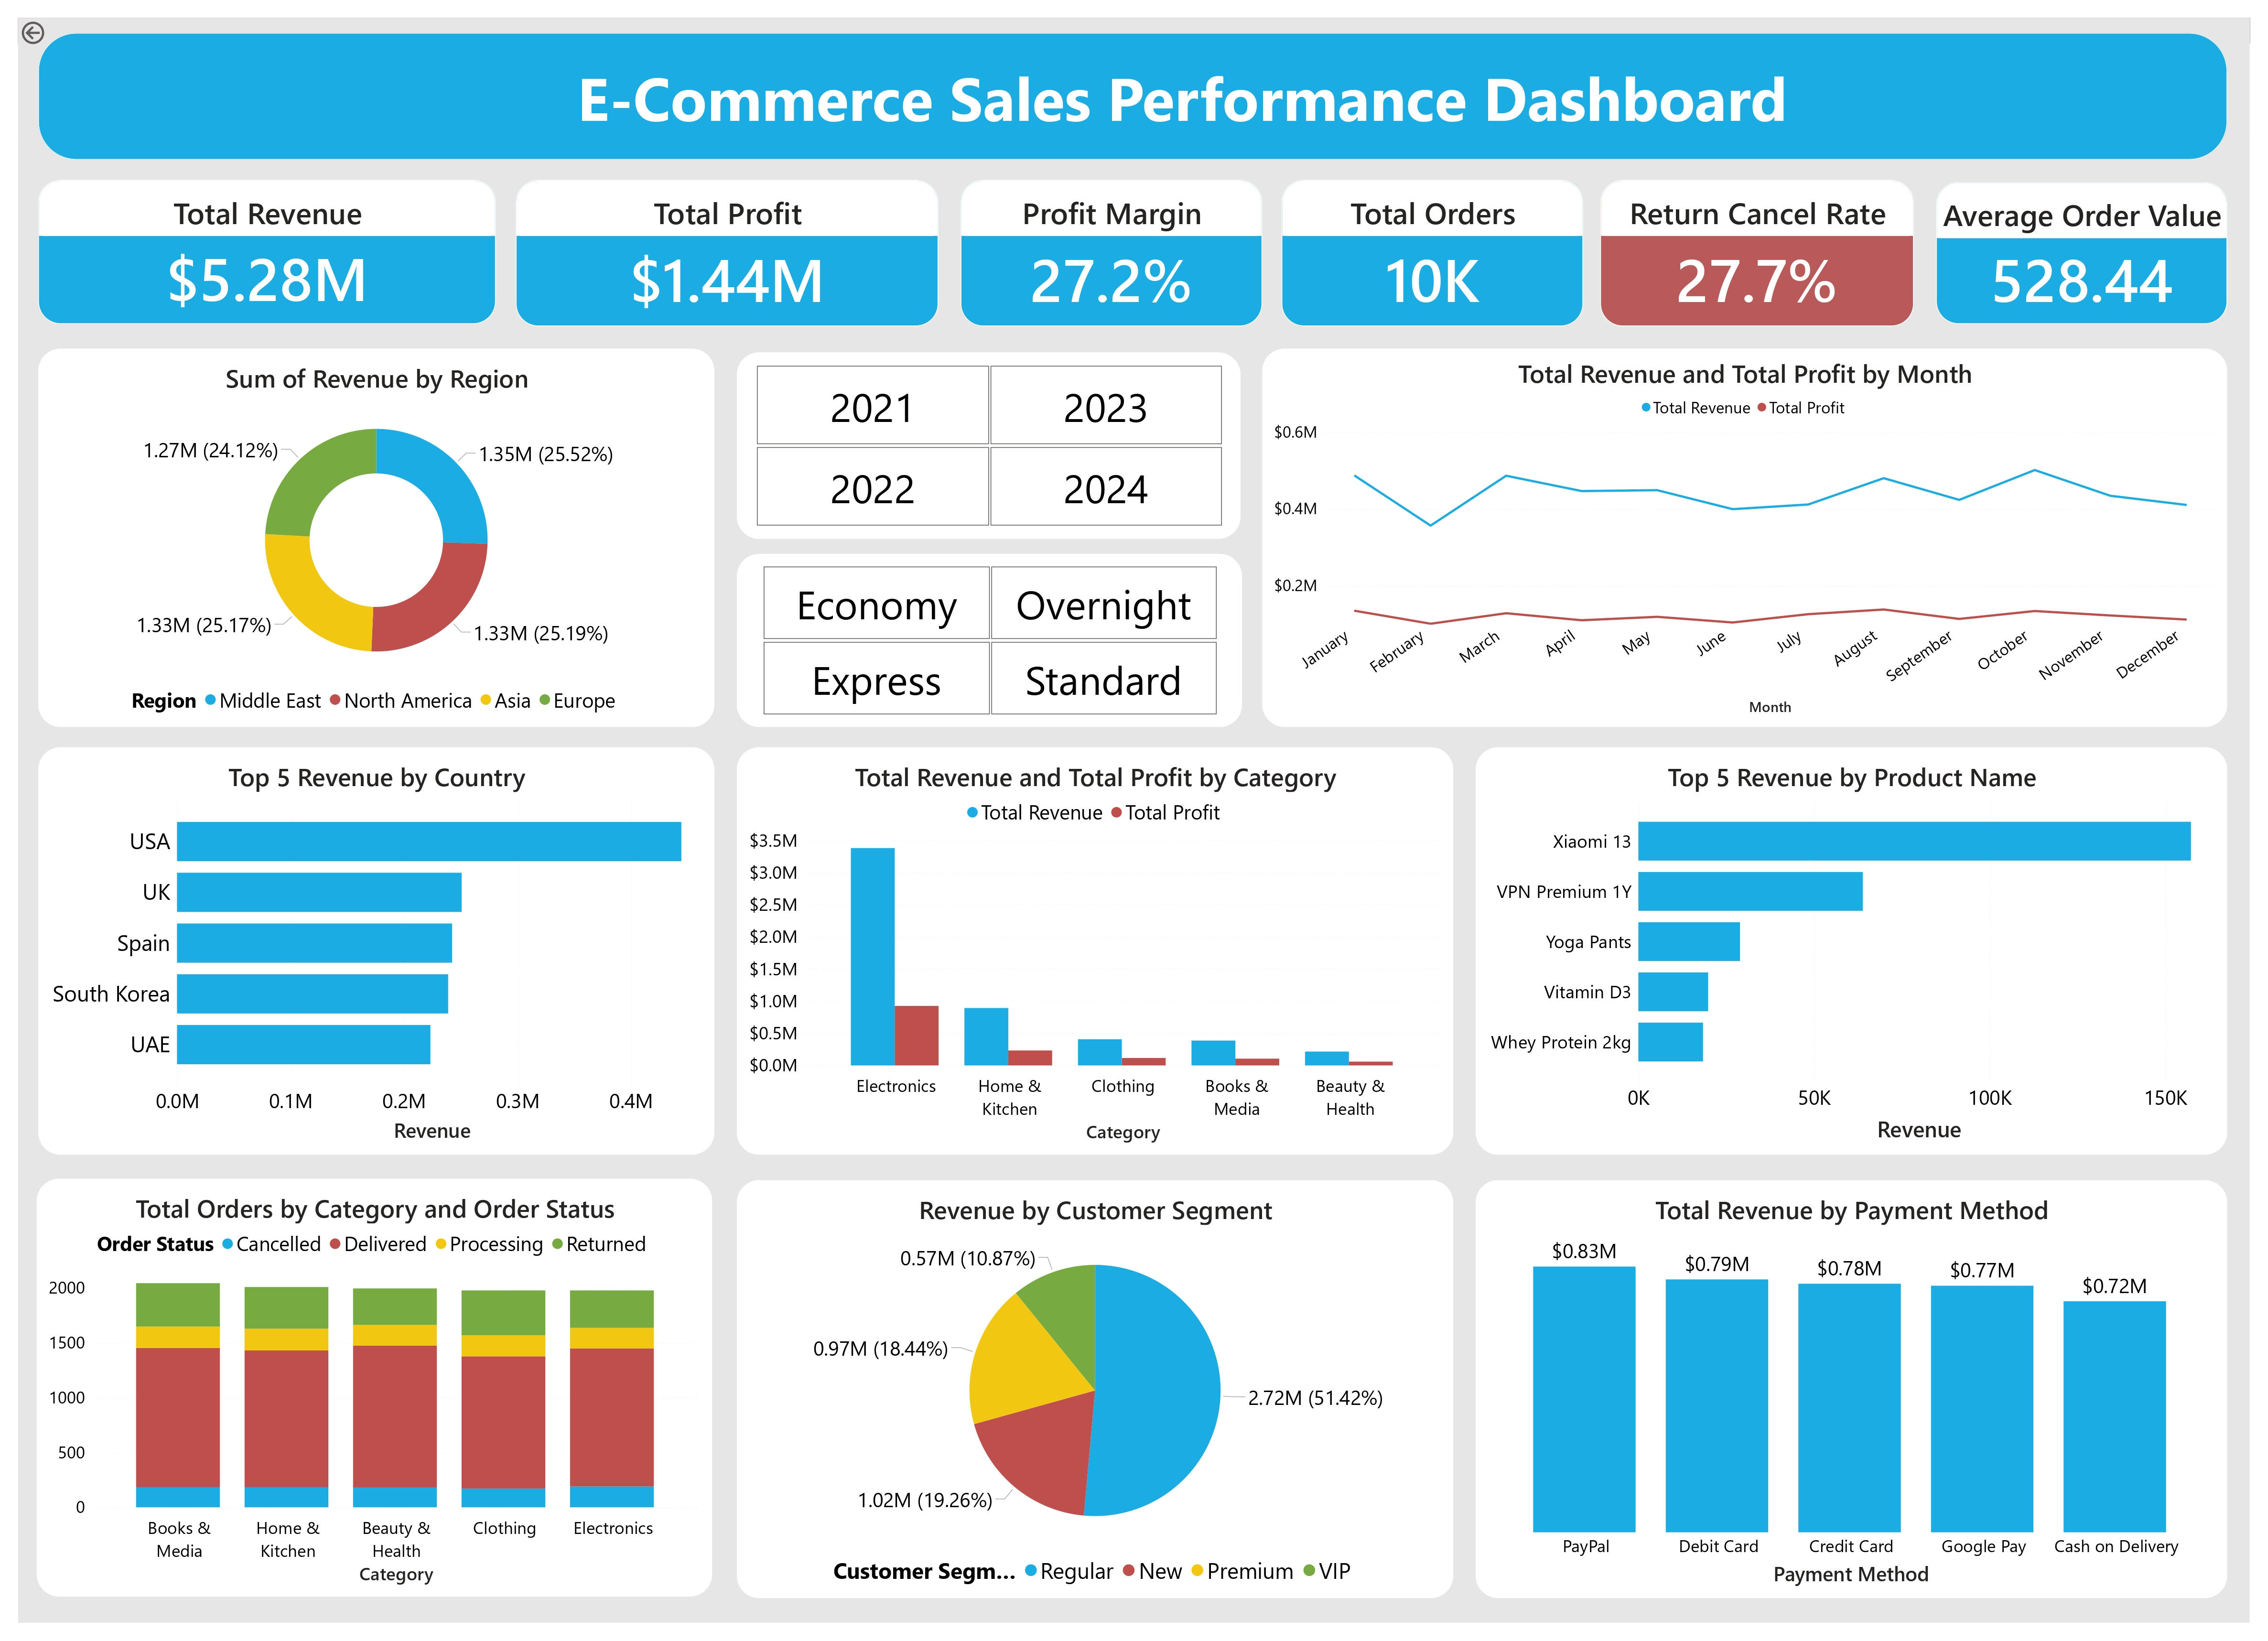

The dashboard page shown, as its layout file describes it:
{"tool":"powerbi","page":{"name":"Dashboard","canvas":[2990,2150],"ordinal":0},"visuals":[{"type":"lineChart","fields":{"Y":["ecommerce_sales_dataset.Total Revenue","ecommerce_sales_dataset.Total Profit"],"Category":["ecommerce_sales_dataset.Order_Date.Variation.Date Hierarchy.Month"]},"box":[1666.7,443.3,1293.3,506.7],"z":0},{"type":"clusteredColumnChart","fields":{"Category":["ecommerce_sales_dataset.Category"],"Y":["ecommerce_sales_dataset.Total Revenue","ecommerce_sales_dataset.Total Profit"]},"box":[963.3,976.7,960,546.7],"z":1000},{"type":"actionButton","box":[0,0,100,40],"z":2000},{"type":"pieChart","title":"Revenue by Customer Segment","fields":{"Category":["ecommerce_sales_dataset.Customer_Segment"],"Y":["Sum(ecommerce_sales_dataset.Revenue)"]},"box":[963.3,1556.7,960,560],"z":3000},{"type":"donutChart","fields":{"Category":["ecommerce_sales_dataset.Region"],"Y":["Sum(ecommerce_sales_dataset.Revenue)"]},"box":[26.7,443.3,906.7,506.7],"z":4000},{"type":"barChart","title":"Top 5 Revenue by Product Name","fields":{"Category":["ecommerce_sales_dataset.Product_Name"],"Y":["Sum(ecommerce_sales_dataset.Revenue)"]},"box":[1953.3,976.7,1006.7,546.7],"z":5000},{"type":"card","title":"Profit Margin","fields":{"Values":["ecommerce_sales_dataset.Profit Margin %"]},"box":[1263.3,216.7,403.3,196.7],"z":6000},{"type":"clusteredColumnChart","title":"Total Revenue by Payment Method","fields":{"Category":["ecommerce_sales_dataset.Payment_Method"],"Y":["ecommerce_sales_dataset.Total Revenue"]},"box":[1953.3,1556.7,1006.7,560],"z":7000},{"type":"card","title":"Total Revenue","fields":{"Values":["ecommerce_sales_dataset.Total Revenue"]},"box":[26.7,216.7,613.3,193.3],"z":8000},{"type":"card","title":"Total Profit","fields":{"Values":["ecommerce_sales_dataset.Total Profit"]},"box":[666.7,216.7,566.7,196.7],"z":9000},{"type":"card","title":"Total Orders","fields":{"Values":["ecommerce_sales_dataset.Total Orders"]},"box":[1693.3,216.7,403.3,196.7],"z":10000},{"type":"card","title":"Return Cancel Rate","fields":{"Values":["ecommerce_sales_dataset.Return Cancel Rate"]},"box":[2120,216.7,420,196.7],"z":11000},{"type":"slicer","fields":{"Values":["ecommerce_sales_dataset.Order_Date.Variation.Date Hierarchy.Year"]},"box":[962.5,447.5,675,250],"z":12000},{"type":"shape","box":[26.7,20,2933.3,170],"z":14000},{"type":"textbox","box":[593.3,46.7,1933.3,120],"z":15000},{"type":"slicer","fields":{"Values":["ecommerce_sales_dataset.Shipping_Method"]},"box":[962.5,717.5,677.5,232.5],"z":16000},{"type":"card","title":"Average Order Value","fields":{"Values":["ecommerce_sales_dataset.Avg Order Value"]},"box":[2570,220,390,190],"z":17000},{"type":"columnChart","title":"Total Orders by Category and Order Status","fields":{"Category":["ecommerce_sales_dataset.Category"],"Y":["ecommerce_sales_dataset.Total Orders"],"Series":["ecommerce_sales_dataset.Order_Status"]},"box":[25,1555,905,560],"z":18000},{"type":"barChart","title":"Top 5 Revenue by Country","fields":{"Category":["ecommerce_sales_dataset.Country"],"Y":["Sum(ecommerce_sales_dataset.Revenue)"]},"box":[26.7,976.7,906.7,546.7],"z":19000}]}

Visuals, with their boxes on the page's 2990x2150 design canvas (x1, y1, x2, y2). These are canvas units, not pixel positions in the 2268x1641 screenshot, which may show the page scaled, cropped or inside an application window:
lineChart - ecommerce_sales_dataset.Total Revenue x ecommerce_sales_dataset.Total Profit: 1667:443:2960:950
clusteredColumnChart - ecommerce_sales_dataset.Category x ecommerce_sales_dataset.Total Revenue: 963:977:1923:1523
actionButton: 0:0:100:40
"Revenue by Customer Segment" pieChart: 963:1557:1923:2117
donutChart - ecommerce_sales_dataset.Region x Sum(ecommerce_sales_dataset.Revenue): 27:443:933:950
"Top 5 Revenue by Product Name" barChart: 1953:977:2960:1523
"Profit Margin" card: 1263:217:1667:413
"Total Revenue by Payment Method" clusteredColumnChart: 1953:1557:2960:2117
"Total Revenue" card: 27:217:640:410
"Total Profit" card: 667:217:1233:413
"Total Orders" card: 1693:217:2097:413
"Return Cancel Rate" card: 2120:217:2540:413
slicer - ecommerce_sales_dataset.Order_Date.Variation.Date Hierarchy.Year: 962:448:1638:698
shape: 27:20:2960:190
textbox: 593:47:2527:167
slicer - ecommerce_sales_dataset.Shipping_Method: 962:718:1640:950
"Average Order Value" card: 2570:220:2960:410
"Total Orders by Category and Order Status" columnChart: 25:1555:930:2115
"Top 5 Revenue by Country" barChart: 27:977:933:1523
